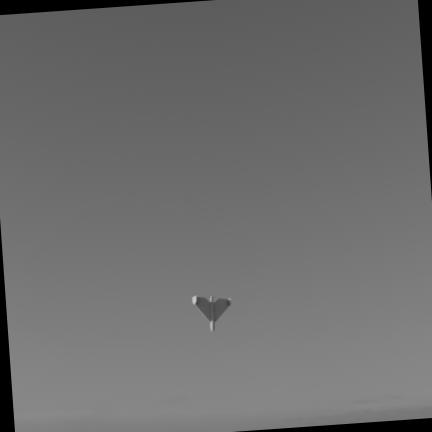Shahed: (191, 295, 231, 331)
